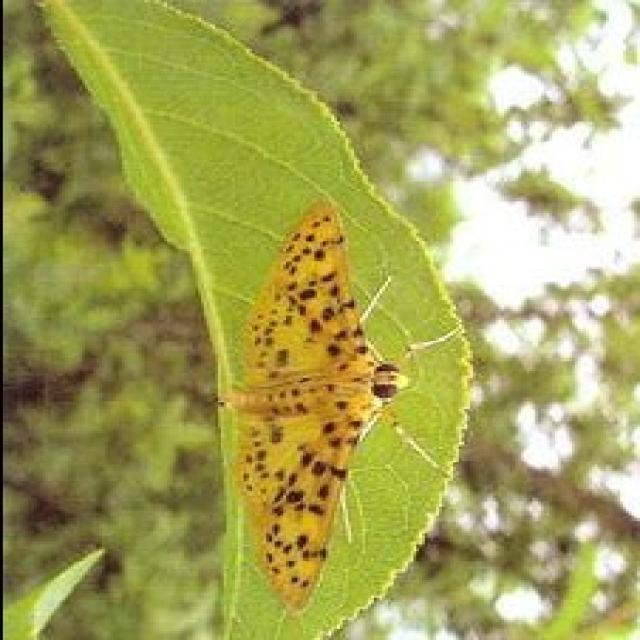peach borer: (219, 206, 423, 624)
